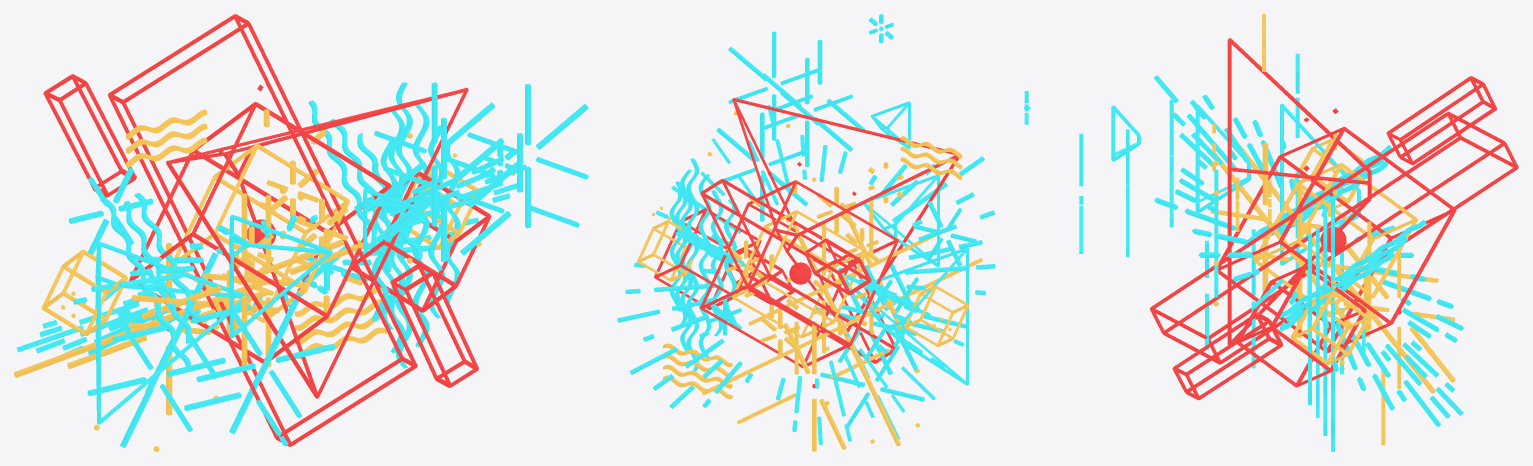
The model's file is szakallexport.fbx.
3 views of the same model, side by side, from view 1: azimuth 30°, elevation 25°; view 2: azimuth 150°, elevation 25°; view 3: azimuth 270°, elevation 25° (orthographic). The views are drawn at different scales.
Visible parts, largest first — view 1: Cube_3_20, Disc, Platonic_2_2, Platonic_2_3, Disc_0, Platonic_2, Cube_2_19, Cube, Disc_1, Platonic_2_4, Cube_2_5_2_2, Cube_2_1_4 (+17 smaller); view 2: Platonic_2_2, Disc, Cube_3_20, Platonic_2_3, Platonic_2, Disc_0, Cube, Platonic_2_4, Disc_1, Cube_2_5_1, Cube_2_1_4, Cube_2_5_2_2 (+10 smaller); view 3: Cube_3_20, Platonic_2_2, Disc, Platonic_2_3, Platonic_2_4, Platonic_2, Cube, Cube_2_19, Disc_1, Disc_0, Cube_2_0_2_2, Cube_2_5_1 (+9 smaller).
Boxes of the visible parts, x1,y1,x2,y2 form: Cube_3_20: [108, 14, 417, 446]; Disc: [166, 87, 468, 398]; Platonic_2_2: [129, 102, 391, 363]; Platonic_2_3: [170, 143, 349, 322]; Disc_0: [95, 241, 249, 424]; Platonic_2: [41, 164, 477, 336]; Cube_2_19: [390, 264, 478, 387]; Cube: [43, 74, 136, 197]; Disc_1: [229, 214, 332, 337]; Platonic_2_4: [352, 171, 491, 312]; Cube_2_5_2_2: [14, 283, 266, 377]; Cube_2_1_4: [396, 82, 412, 368]; Platonic_2_2: [700, 180, 898, 367]; Disc: [732, 98, 958, 332]; Cube_3_20: [700, 179, 895, 363]; Platonic_2_3: [731, 210, 867, 338]; Platonic_2: [637, 220, 969, 346]; Disc_0: [854, 247, 968, 385]; Cube: [804, 238, 871, 294]; Platonic_2_4: [654, 208, 761, 309]; Disc_1: [863, 174, 939, 267]; Cube_2_5_1: [701, 258, 982, 395]; Cube_2_1_4: [686, 158, 699, 371]; Cube_2_5_2_2: [823, 288, 900, 445]; Cube_3_20: [1150, 111, 1518, 364]; Platonic_2_2: [1218, 126, 1456, 353]; Disc: [1227, 38, 1371, 345]; Platonic_2_3: [1253, 162, 1417, 317]; Platonic_2_4: [1236, 265, 1366, 387]; Platonic_2: [1290, 138, 1369, 365]; Cube: [1386, 76, 1496, 165]; Cube_2_19: [1172, 312, 1282, 400]; Disc_1: [1195, 104, 1250, 212]; Disc_0: [1280, 103, 1360, 265]; Cube_2_0_2_2: [1323, 219, 1327, 435]; Cube_2_5_1: [1237, 141, 1435, 393].
Bounding box in the file's own units: 683 × 593 × 757.
